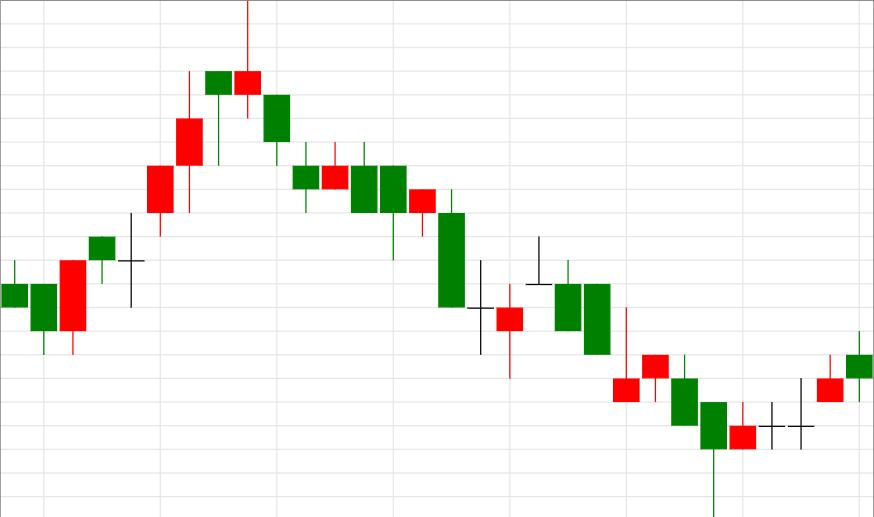hammer_rise: (526, 236, 727, 517)
shooting_star_fall: (59, 0, 261, 355)
